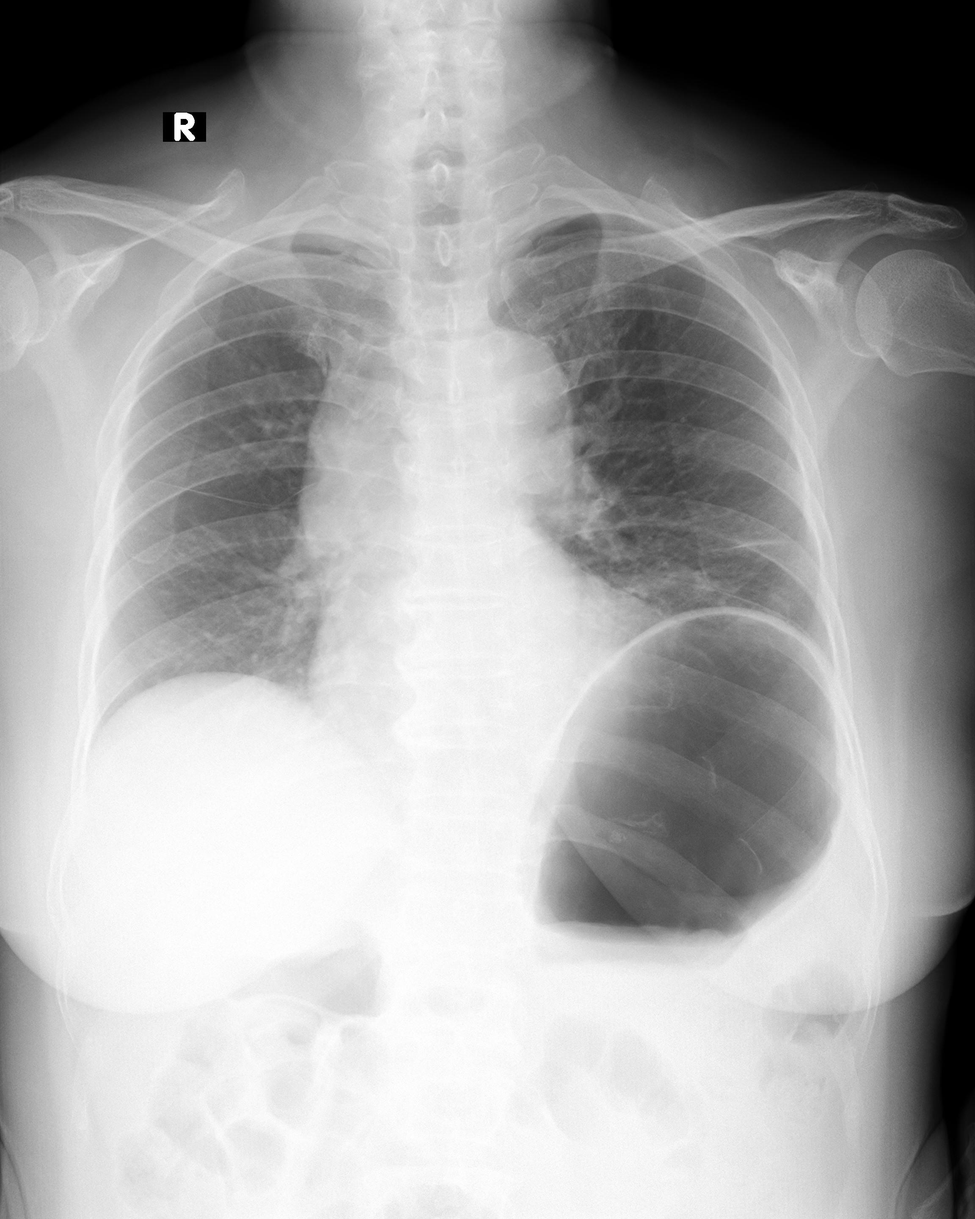Aortic enlargement: (441, 315, 576, 477)
Pulmonary fibrosis: (714, 532, 793, 551)
